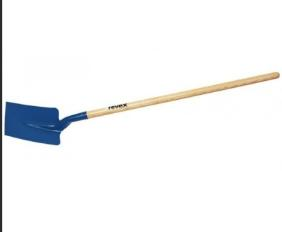PELLE: (3, 69, 282, 152)
